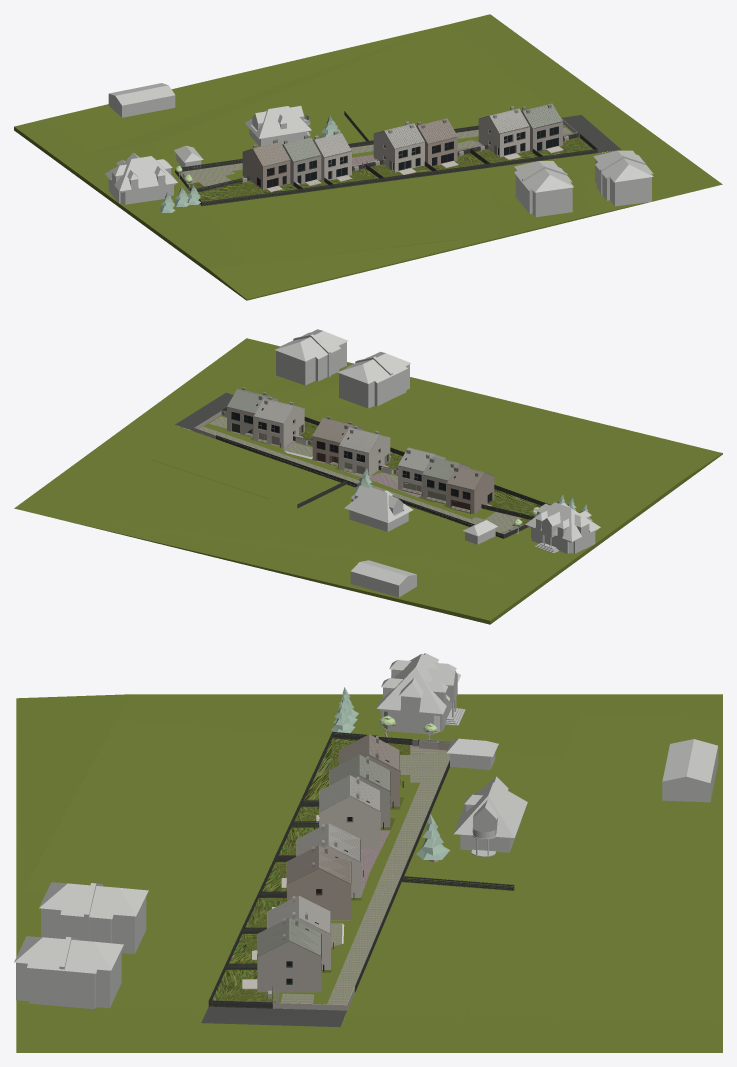
Rendered from bor2-zewnetrze-v2.glb.
3 views of the same model, one above another, from view 1: azimuth 30°, elevation 25°; view 2: azimuth 150°, elevation 25°; view 3: azimuth 270°, elevation 25° (orthographic). The views are drawn at different scales.
Parts seen in each view (by area): view 1: ZIEMIA, KONTEKST, OGRODZENIA, DOM_D, DOM_B, DOM_G, DOM_A, DOM_C, DOM_E, DOM_F, ZIELEN; view 2: ZIEMIA, KONTEKST, OGRODZENIA, DOM_B, DOM_D, DOM_G, DOM_C, DOM_A, DOM_F, DOM_E; view 3: ZIEMIA, KONTEKST, OGRODZENIA, DOM_A, DOM_C, DOM_E, DOM_D, DOM_B, ZIELEN, DOM_F, DOM_G.
Boxes of the visible parts, x1,y1,x2,y2 form: ZIEMIA: (14,14,722,300); KONTEKST: (105,83,653,217); OGRODZENIA: (175,111,597,206); DOM_D: (373,121,424,174); DOM_B: (478,106,529,159); DOM_G: (241,139,290,191); DOM_A: (521,103,568,153); DOM_C: (416,118,463,167); DOM_E: (313,130,358,181); DOM_F: (282,134,321,185); ZIELEN: (160,115,340,212); ZIEMIA: (14,338,722,624); KONTEKST: (275,329,600,597); OGRODZENIA: (194,407,550,538); DOM_B: (253,396,304,447); DOM_D: (339,426,390,476); DOM_G: (446,465,494,513); DOM_C: (312,416,363,466); DOM_A: (226,387,277,436); DOM_F: (422,456,470,503); DOM_E: (398,447,445,494); ZIEMIA: (16,694,722,1052); KONTEKST: (14,653,718,1009); OGRODZENIA: (208,731,514,1010); DOM_A: (242,918,321,999); DOM_C: (272,845,351,919); DOM_E: (319,775,380,848); DOM_D: (281,823,360,897); DOM_B: (252,895,331,969); ZIELEN: (331,687,450,862); DOM_F: (316,754,390,827); DOM_G: (338,734,400,806).
Size of the model in its own units: 131 by 19.44 by 110.
27 materials, 5 textured.
